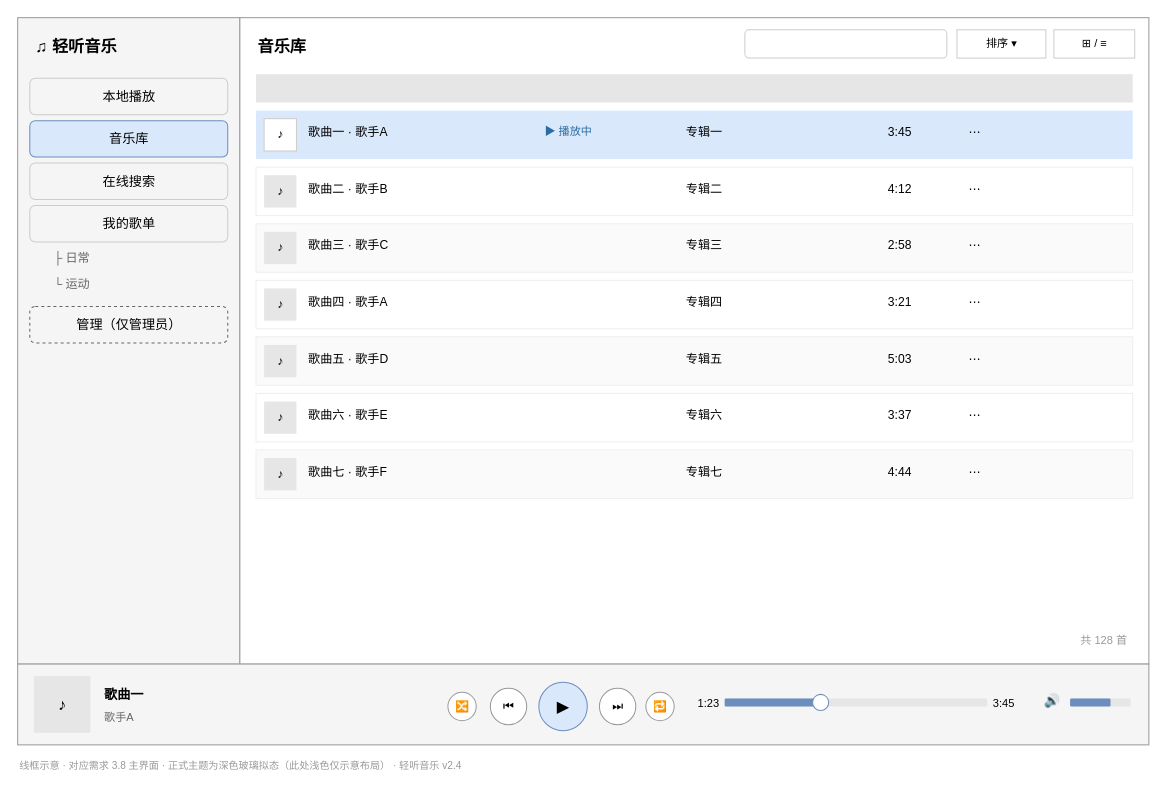
This 1167x791 diagram has some shape labels left out. The shapes that lost their labels are listed below. From the top down, each one's box as (x1, y1, x2, y2) in pixels, then its label:
(744, 29, 947, 58): 🔍 搜索歌名 / 歌手 / 专辑
(256, 74, 1132, 102): 封面 歌名 / 歌手 专辑 时长 操作
